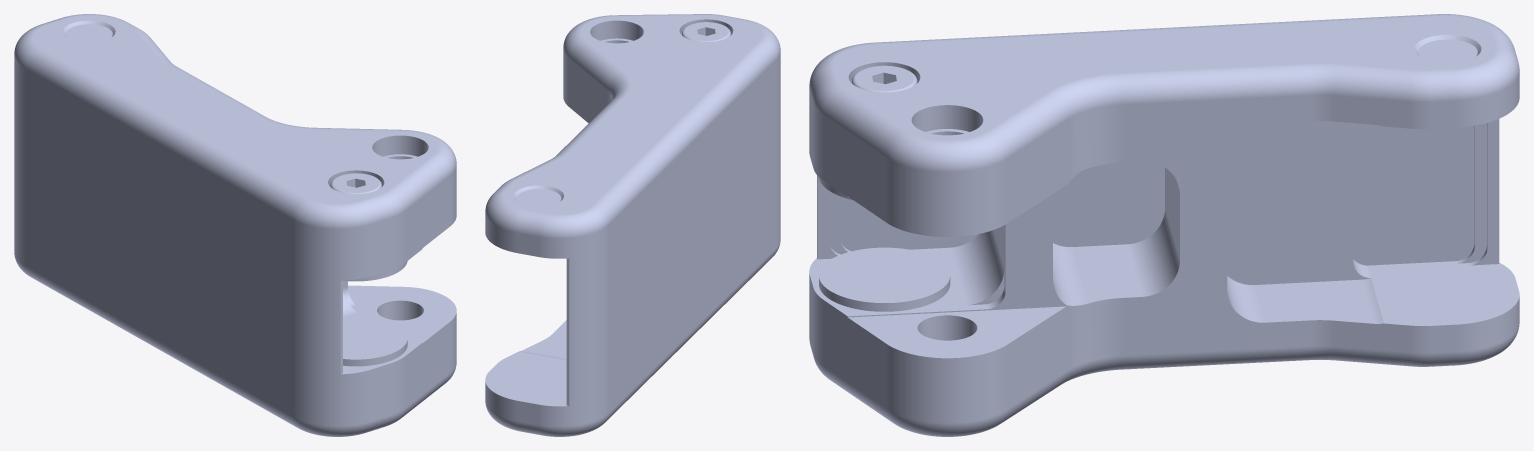
File: robotiq_static.dae
3 views of the same model, side by side, from view 1: azimuth 30°, elevation 25°; view 2: azimuth 150°, elevation 25°; view 3: azimuth 270°, elevation 25° (orthographic). The views are drawn at different scales.
Visible parts, largest first — view 1: node0; view 2: node0; view 3: node0.
Boxes of the visible parts, x1,y1,x2,y2 form: node0: (14,14,456,436); node0: (485,14,780,436); node0: (809,14,1519,436).
Size of the model in its own units: 0.0286 by 0.0595 by 0.0272.
